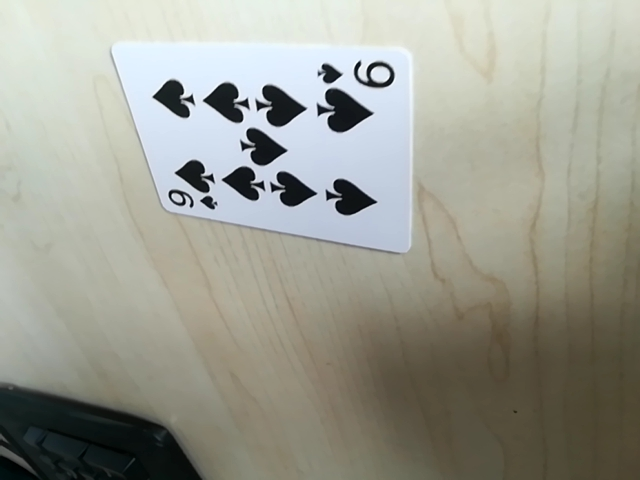ht 9: (316, 54, 404, 90), (163, 187, 217, 219)
